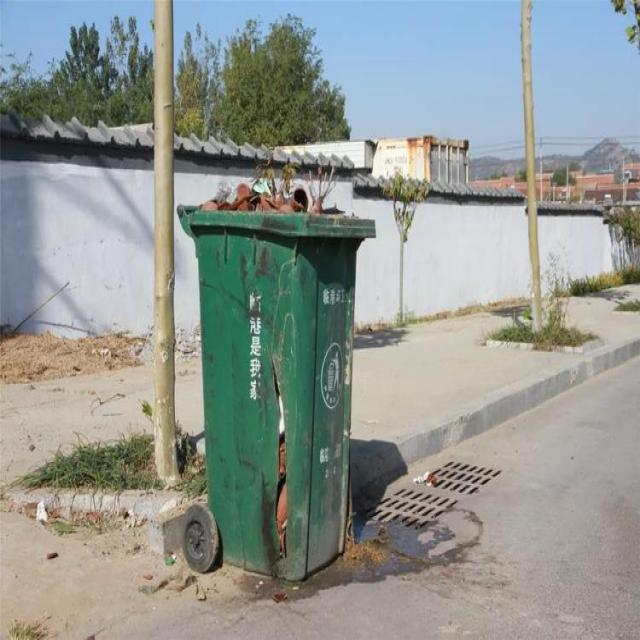overflow: (176, 179, 371, 575)
